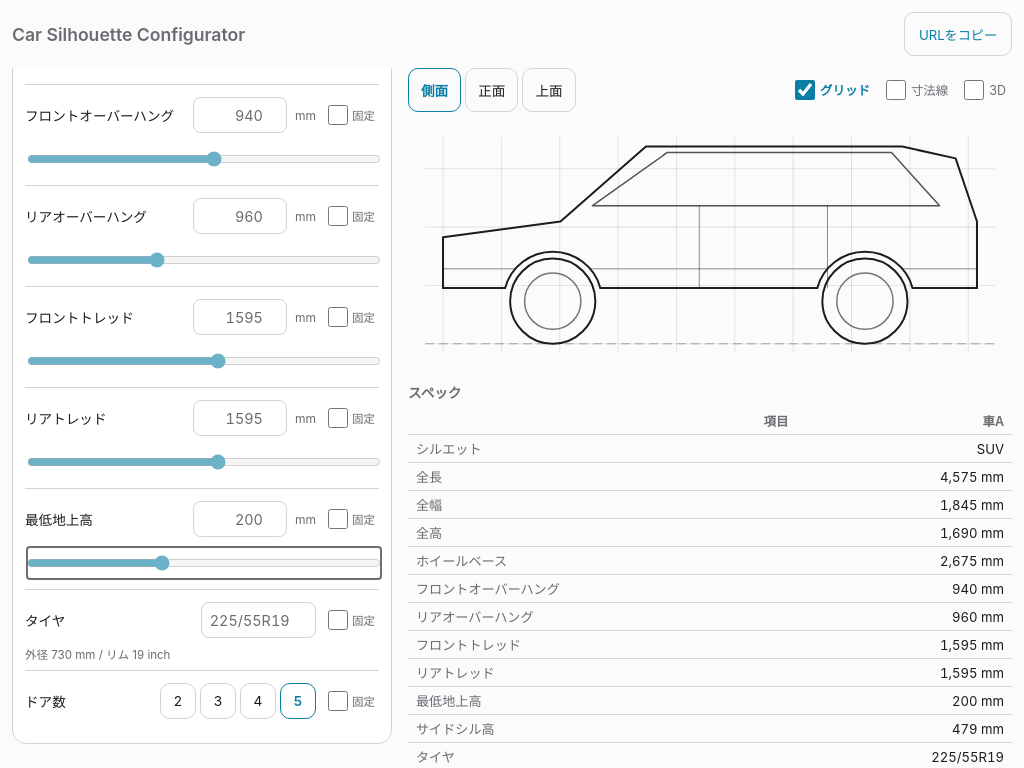
it: App 寸法の変更とロック › スライダーを動かすと値が変わり固定される
The width and height of the screenshot is (1024, 768).
(page scrolled)
range 要素は fireEvent 相当の直接操作で値を変える
Set the slider named "最低地上高" to "260": {"x": 225, "y": 563} [27,547,381,579]
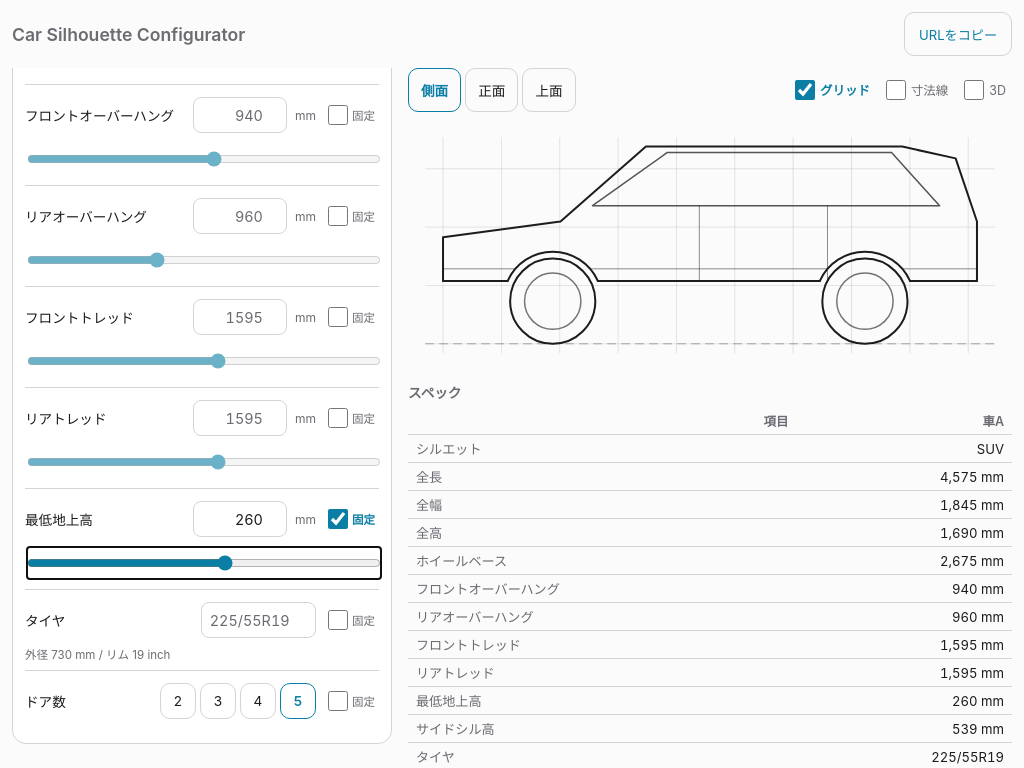
Expected: the number field labelled "最低地上高" holds "260", [193,501,287,537]
